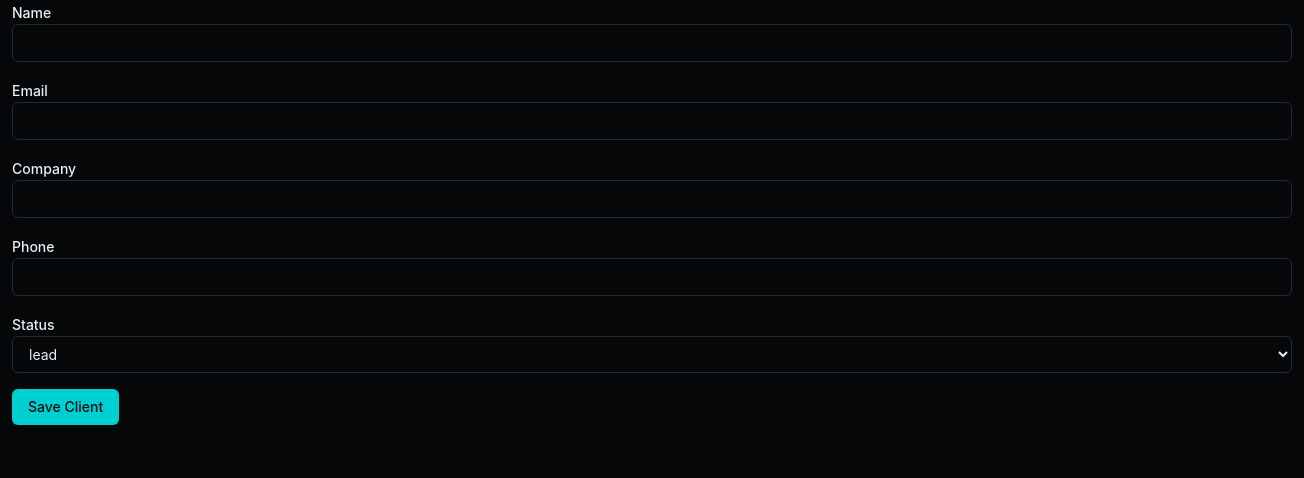
Scenario: ClientForm › should validate name is required
This screenshot has width=1304, height=478.
Click the button "Save Client".
click(66, 407)  # box [12,389,119,425]
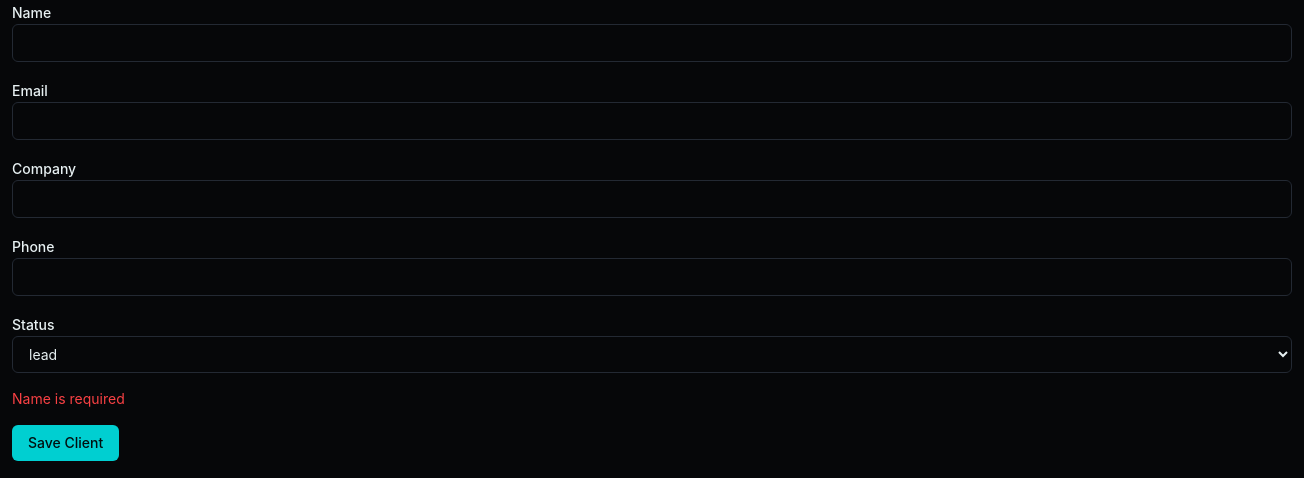
Expected: the text "Name is required" is shown, [12,390,125,407]
